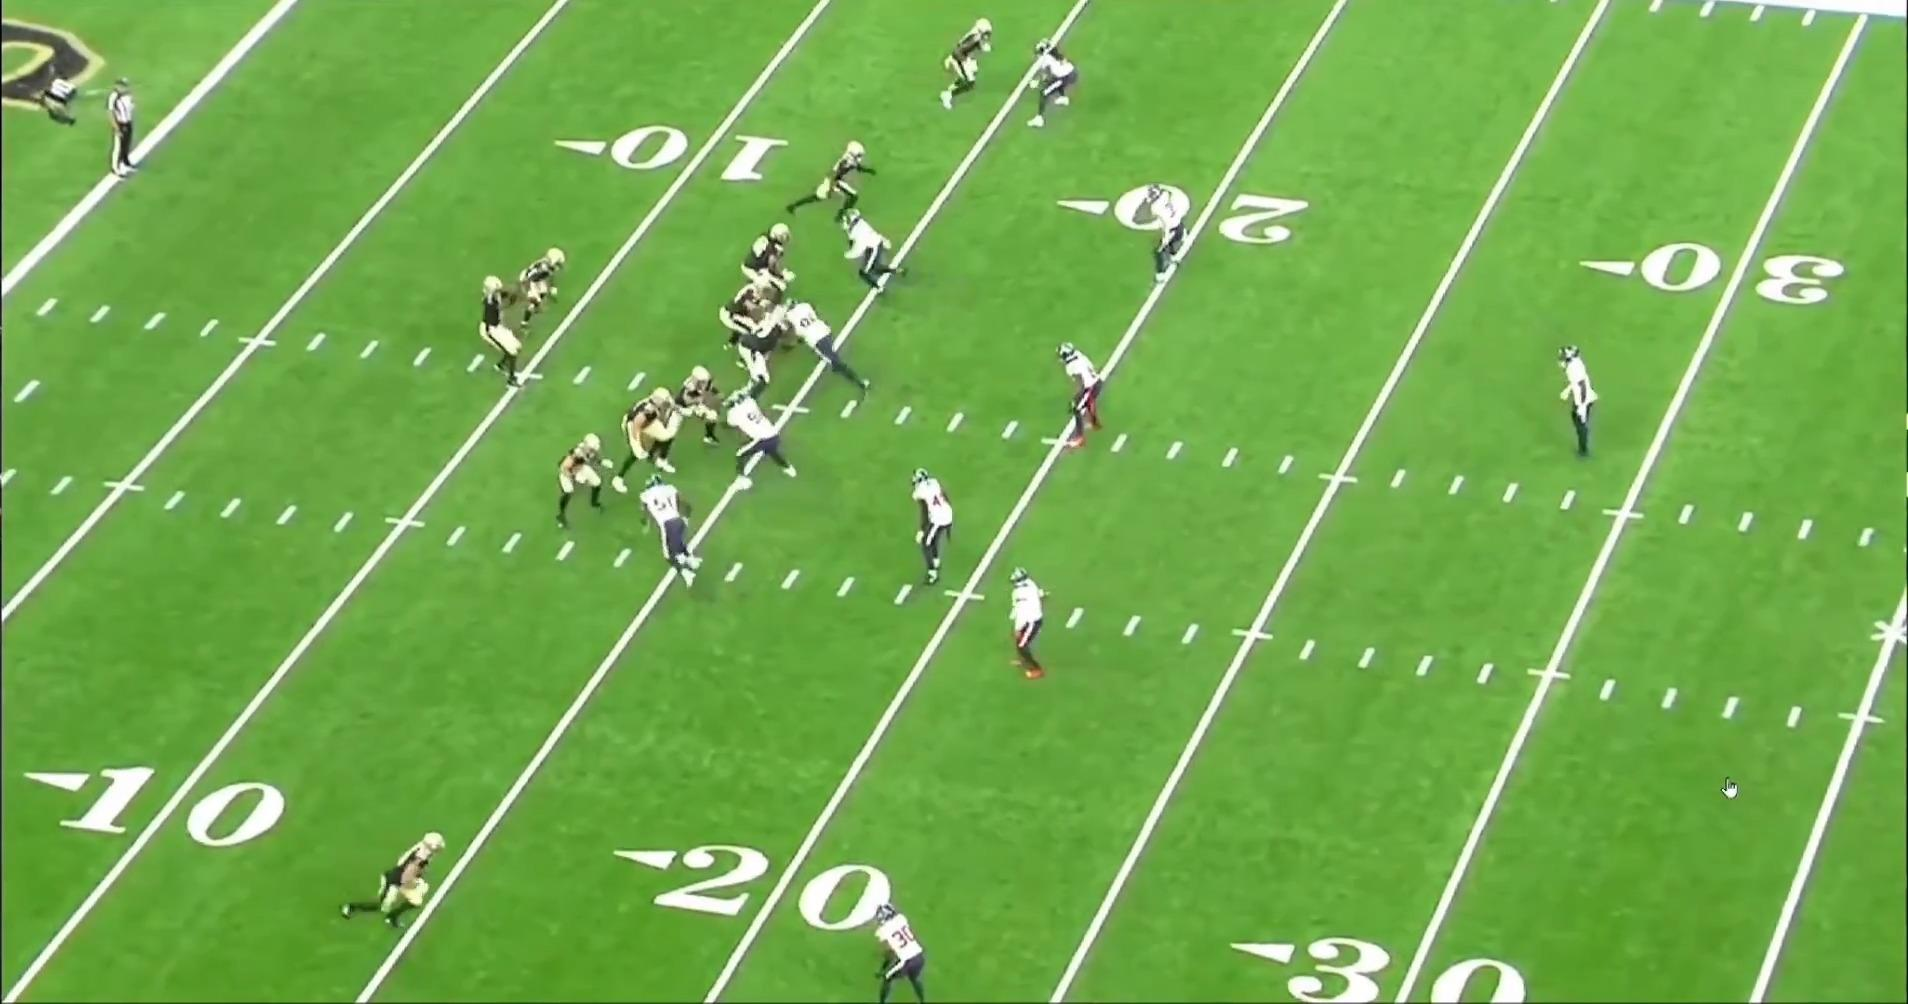defense: (777, 301, 872, 400), (639, 469, 709, 589), (721, 392, 798, 493), (866, 901, 933, 1001), (1049, 339, 1108, 452), (835, 208, 909, 299), (912, 465, 964, 588), (1007, 564, 1056, 685), (1030, 34, 1086, 130), (1557, 344, 1601, 467), (1151, 178, 1198, 286)
oline: (606, 388, 679, 493), (724, 269, 790, 357), (741, 308, 800, 405), (681, 366, 731, 450), (734, 219, 791, 291)
qb: (473, 266, 533, 392)
ref: (107, 74, 149, 184)
skill: (332, 829, 447, 935), (781, 140, 876, 231), (933, 11, 998, 112), (548, 429, 607, 532), (512, 246, 568, 336)
